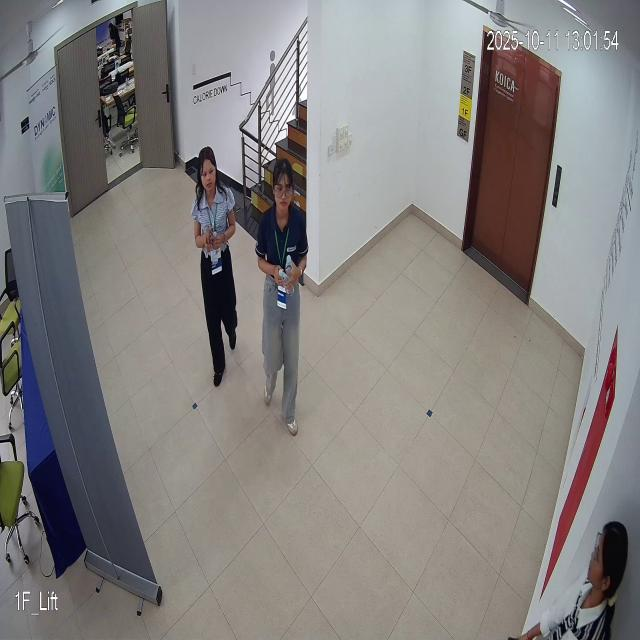face: (270, 154, 298, 219), (192, 140, 220, 202)
